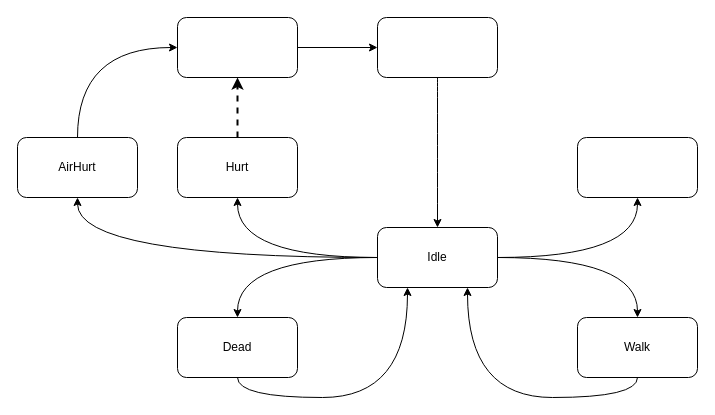
The diagram is 715 pixels wide and 415 high, and some of its shapes have lost their labels. Here are the shapes that lost their labels. From the top down, the centre of each, then its label:
[237,47]: KnockDown
[437,47]: GetUp
[637,167]: Attack
